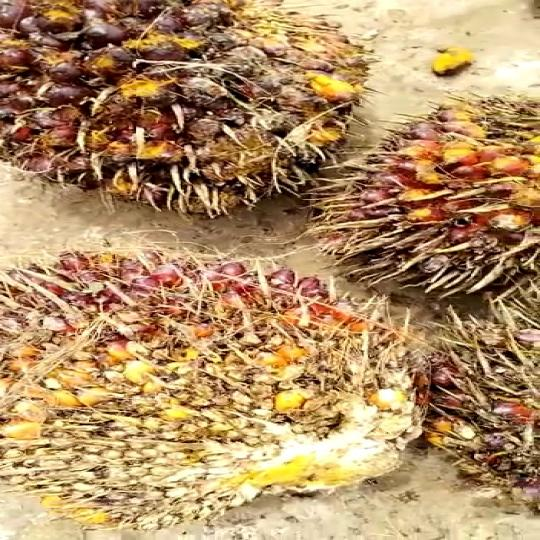masak: (0, 243, 439, 508), (0, 2, 357, 228)
